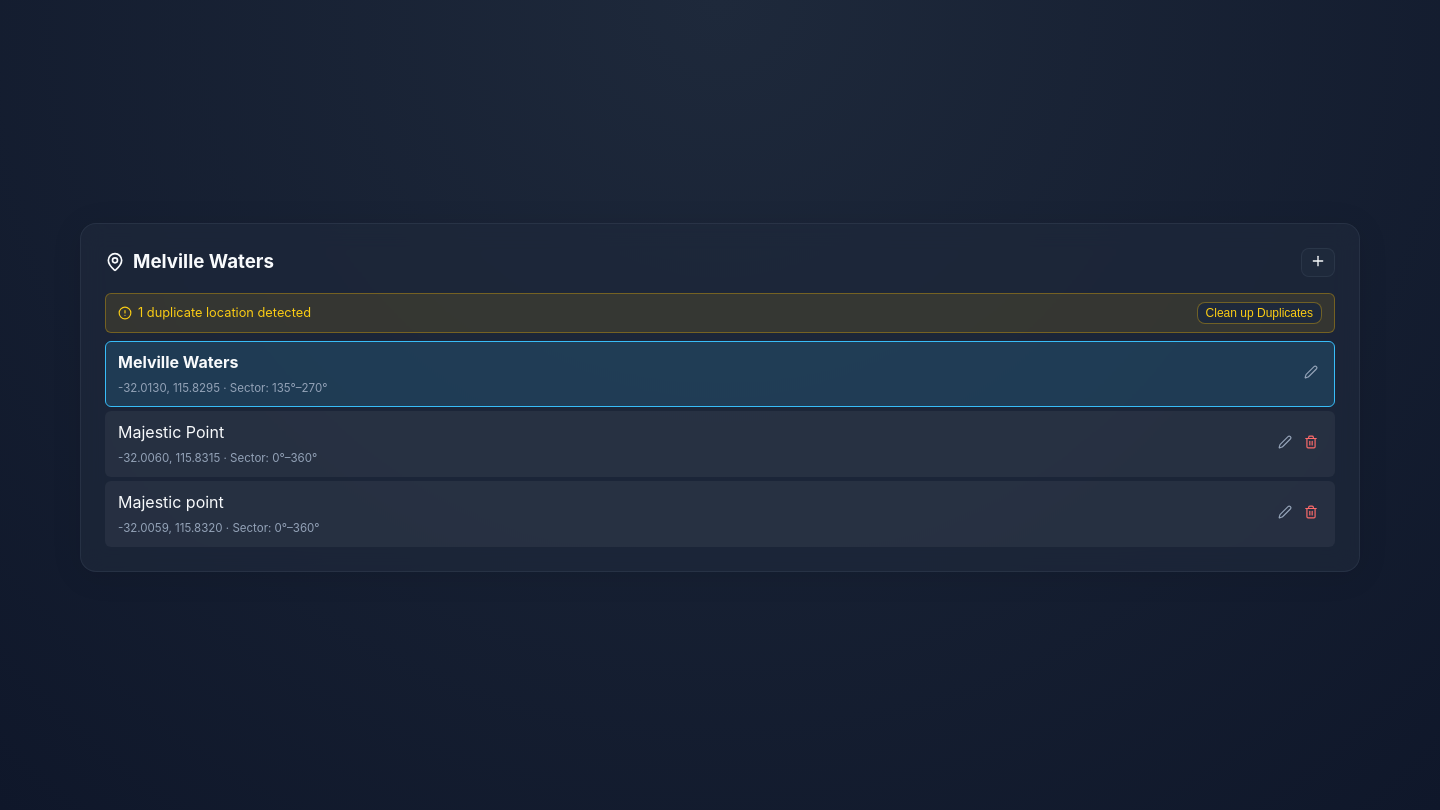
Test case: LocationManager UI interactions › renders duplicates and removes them when Clean up Duplicates is clicked
The width and height of the screenshot is (1440, 810).
Check: the text "1 duplicate location detected" is shown, box [138,303,311,322]
// Click "Clean up Duplicates"
Click the button "Clean up Duplicates": click(1259, 312) [1197,302,1322,324]
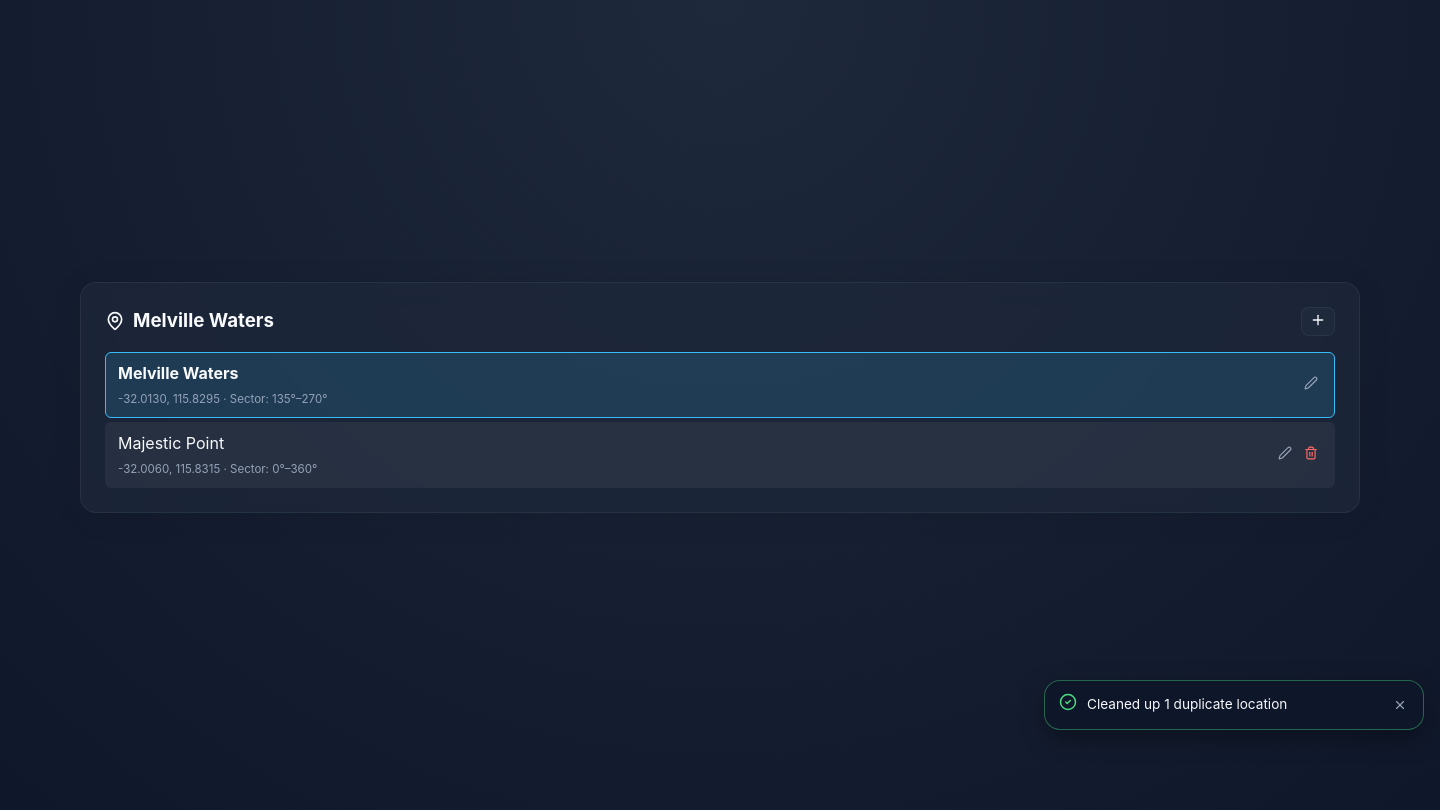
Check: the text "1 duplicate location detected" is gone
